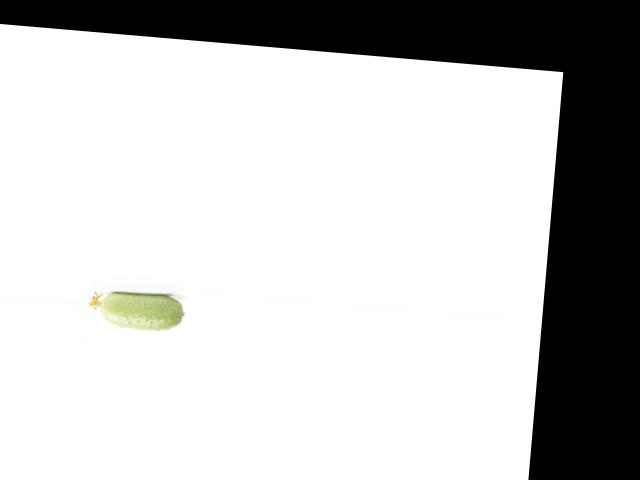cucumber: (88, 287, 187, 332)
